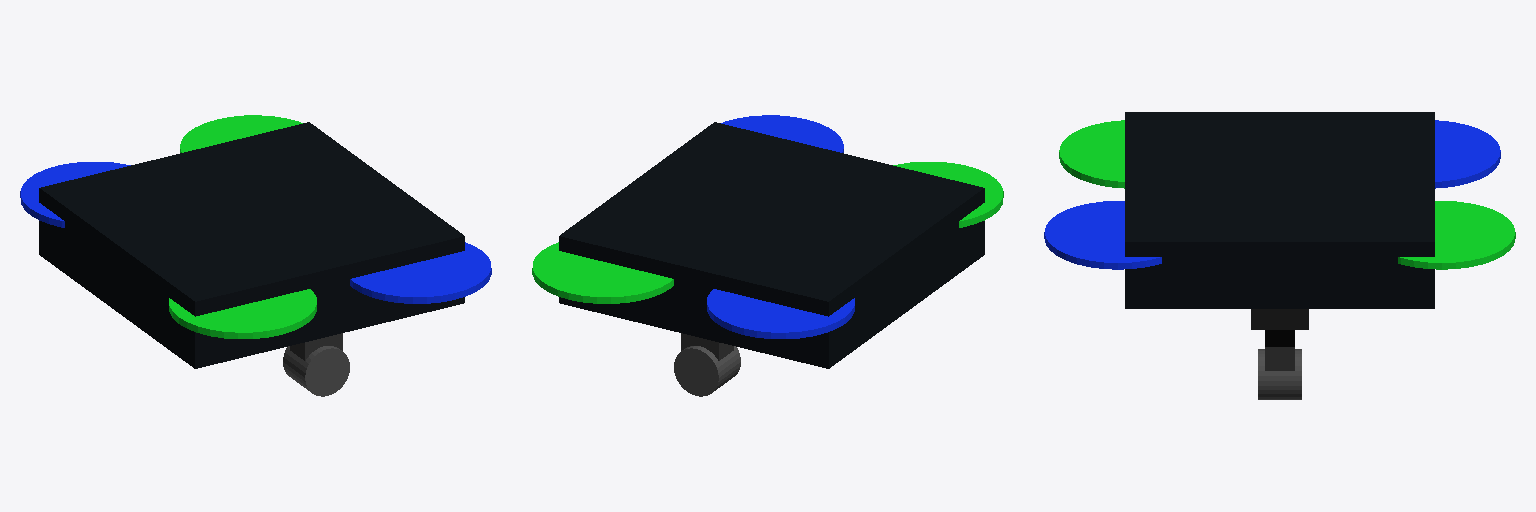
URDF robot description (iris_rviz):
<?xml version="1.0"?>
<robot name="iris_rviz">
  <link name="base_link">
    <visual>
      <origin xyz="0 0 0" rpy="0 0 0"/>
      <geometry><box size="0.42 0.42 0.10"/></geometry>
      <material name="body"><color rgba="0.08 0.10 0.12 1"/></material>
    </visual>
  </link>

  <link name="imu_link">
    <visual>
      <geometry><box size="0.08 0.08 0.03"/></geometry>
      <material name="imu"><color rgba="0.2 0.2 0.9 1"/></material>
    </visual>
  </link>
  <joint name="imu_joint" type="fixed">
    <parent link="base_link"/>
    <child link="imu_link"/>
    <origin xyz="0 0 0.02" rpy="0 0 0"/>
  </joint>

  <link name="gimbal_link">
    <visual>
      <geometry><box size="0.10 0.08 0.06"/></geometry>
      <material name="gimbal"><color rgba="0.15 0.15 0.15 1"/></material>
    </visual>
  </link>
  <joint name="gimbal_joint" type="fixed">
    <parent link="base_link"/>
    <child link="gimbal_link"/>
    <origin xyz="0.10 0 -0.08" rpy="0 0 0"/>
  </joint>

  <link name="yaw_link">
    <visual>
      <geometry><box size="0.08 0.04 0.04"/></geometry>
      <material name="gimbal_dark"><color rgba="0.05 0.05 0.05 1"/></material>
    </visual>
  </link>
  <joint name="yaw_joint" type="fixed">
    <parent link="gimbal_link"/>
    <child link="yaw_link"/>
    <origin xyz="0 0 -0.04" rpy="0 0 0"/>
  </joint>

  <link name="roll_link">
    <visual>
      <geometry><box size="0.06 0.04 0.04"/></geometry>
      <material name="gimbal_mid"><color rgba="0.25 0.25 0.25 1"/></material>
    </visual>
  </link>
  <joint name="roll_joint" type="fixed">
    <parent link="yaw_link"/>
    <child link="roll_link"/>
    <origin xyz="0 0 -0.04" rpy="0 0 0"/>
  </joint>

  <link name="pitch_link">
    <visual>
      <geometry><cylinder radius="0.035" length="0.06"/></geometry>
      <material name="camera"><color rgba="0.35 0.35 0.35 1"/></material>
    </visual>
  </link>
  <joint name="pitch_joint" type="fixed">
    <parent link="roll_link"/>
    <child link="pitch_link"/>
    <origin xyz="0 0 -0.04" rpy="1.57079632679 0 0"/>
  </joint>

  <link name="rotor_0"><visual><geometry><cylinder radius="0.10" length="0.01"/></geometry><material name="blue"><color rgba="0.1 0.25 1 1"/></material></visual></link>
  <joint name="rotor_0_joint" type="fixed"><parent link="base_link"/><child link="rotor_0"/><origin xyz="0.13 -0.22 0.023" rpy="0 0 0"/></joint>
  <link name="rotor_1"><visual><geometry><cylinder radius="0.10" length="0.01"/></geometry><material name="blue"/></visual></link>
  <joint name="rotor_1_joint" type="fixed"><parent link="base_link"/><child link="rotor_1"/><origin xyz="-0.13 0.20 0.023" rpy="0 0 0"/></joint>
  <link name="rotor_2"><visual><geometry><cylinder radius="0.10" length="0.01"/></geometry><material name="green"><color rgba="0.1 0.9 0.2 1"/></material></visual></link>
  <joint name="rotor_2_joint" type="fixed"><parent link="base_link"/><child link="rotor_2"/><origin xyz="0.13 0.22 0.023" rpy="0 0 0"/></joint>
  <link name="rotor_3"><visual><geometry><cylinder radius="0.10" length="0.01"/></geometry><material name="green"/></visual></link>
  <joint name="rotor_3_joint" type="fixed"><parent link="base_link"/><child link="rotor_3"/><origin xyz="-0.13 -0.20 0.023" rpy="0 0 0"/></joint>
</robot>

--- Render facts (derived) ---
The picture shows the robot from 3 angles, left to right: view 1: azimuth 30°, elevation 25°; view 2: azimuth 150°, elevation 25°; view 3: azimuth 270°, elevation 25°; orthographic projection.
Model iris_rviz with 10 links and 9 joints (9 fixed), rooted at base_link, posed every joint at zero.
Visible links, largest first — view 1: base_link, rotor_0, rotor_3, pitch_link, rotor_2, rotor_1, roll_link; view 2: base_link, rotor_2, rotor_1, pitch_link, rotor_0, rotor_3, roll_link; view 3: base_link, rotor_0, rotor_2, rotor_1, rotor_3, pitch_link, gimbal_link, roll_link.
Boxes of the visible links, x1,y1,x2,y2 form: base_link: (39,122,464,368); rotor_0: (350,242,491,303); rotor_3: (169,289,316,338); pitch_link: (283,346,349,396); rotor_2: (180,115,302,152); rotor_1: (20,162,130,227); roll_link: (290,333,342,360); base_link: (559,122,984,368); rotor_2: (532,242,673,303); rotor_1: (707,289,854,338); pitch_link: (674,346,740,396); rotor_0: (721,115,843,152); rotor_3: (893,162,1003,227); roll_link: (681,333,733,360); base_link: (1125,112,1434,308); rotor_0: (1044,201,1161,269); rotor_2: (1398,201,1515,269); rotor_1: (1435,120,1500,188); rotor_3: (1059,120,1124,188); pitch_link: (1258,349,1301,399); gimbal_link: (1251,309,1308,329); roll_link: (1265,347,1294,370).
Bounding box of the posed robot: 0.46 × 0.64 × 0.285 m (x, y, z).
Geometry: primitives only (box / cylinder / sphere), no mesh files.
